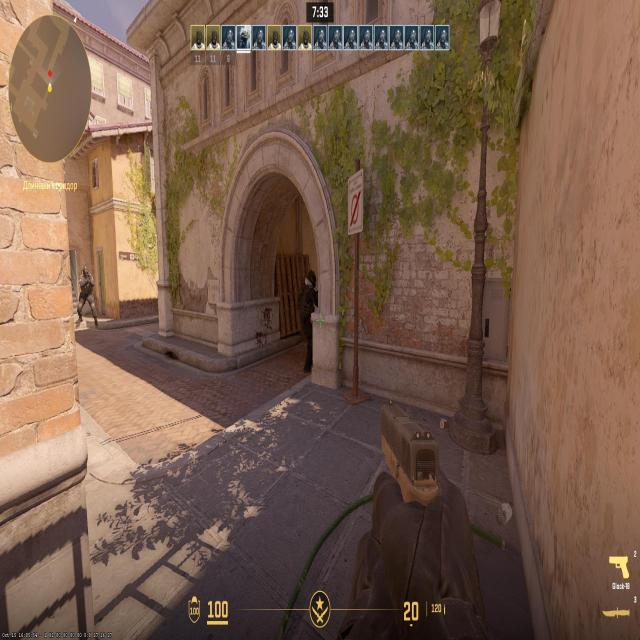CT: (303, 275, 314, 371), (80, 268, 96, 322)
CT_heat: (82, 268, 89, 280), (308, 275, 312, 290)
